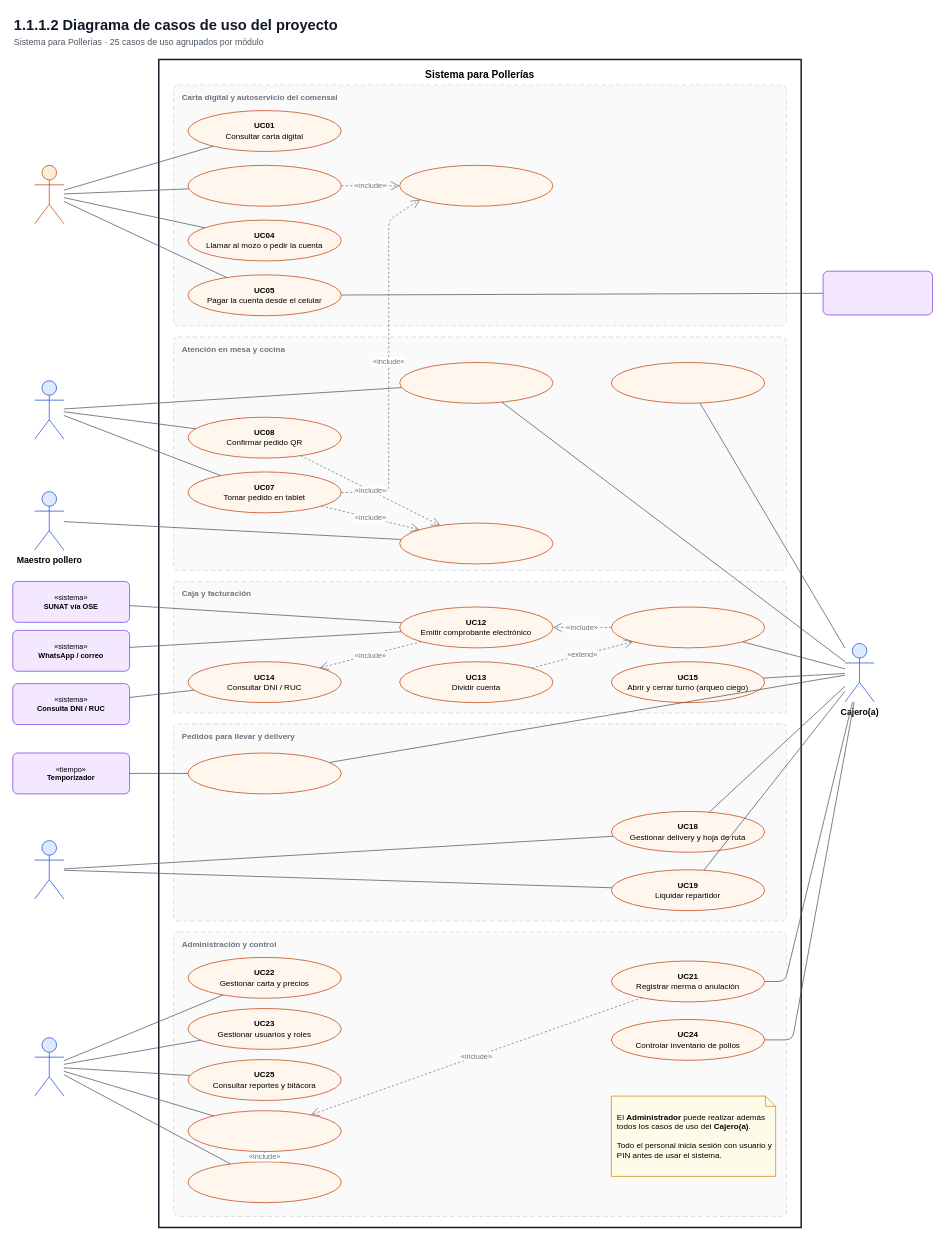
Some shapes in this 945 by 1240 pixel diagram are drawn without their labels. The shapes that lost their labels are listed below. From the top down, each one's centre as x and y in pixels, then its label:
At (49,194): "Comensal".
At (264,185): "UC02 Registrar pedido por QR".
At (476,185): "UC03 Elegir presa y modificadores".
At (877,292): "«sistema» Pasarela de pagos".
At (476,382): "UC06 Gestionar mesas (abrir, transferir, unir)".
At (688,382): "UC10 Marcar producto agotado".
At (49,409): "Mozo".
At (476,543): "UC09 Enviar comanda a cocina con alarma".
At (688,627): "UC11 Cobrar cuenta".
At (264,773): "UC17 Registrar pedido para llevar o programado".
At (49,869): "Repartidor".
At (49,1066): "Administrador".
At (264,1131): "UC20 Autorizar con PIN de administrador".
At (264,1182): "UC16 Emitir nota de crédito".
